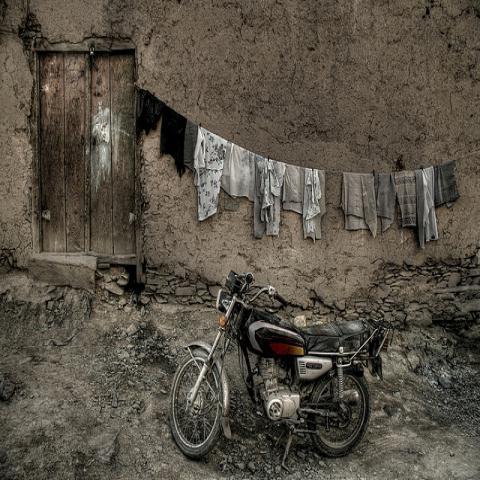motorcycle: (168, 268, 390, 477)
